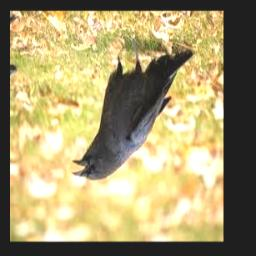Crow: (72, 38, 194, 181)
